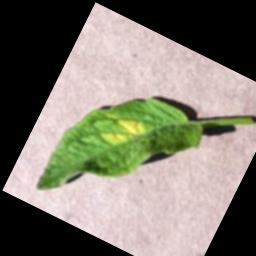Leaf_Mold: (93, 104, 153, 161)
